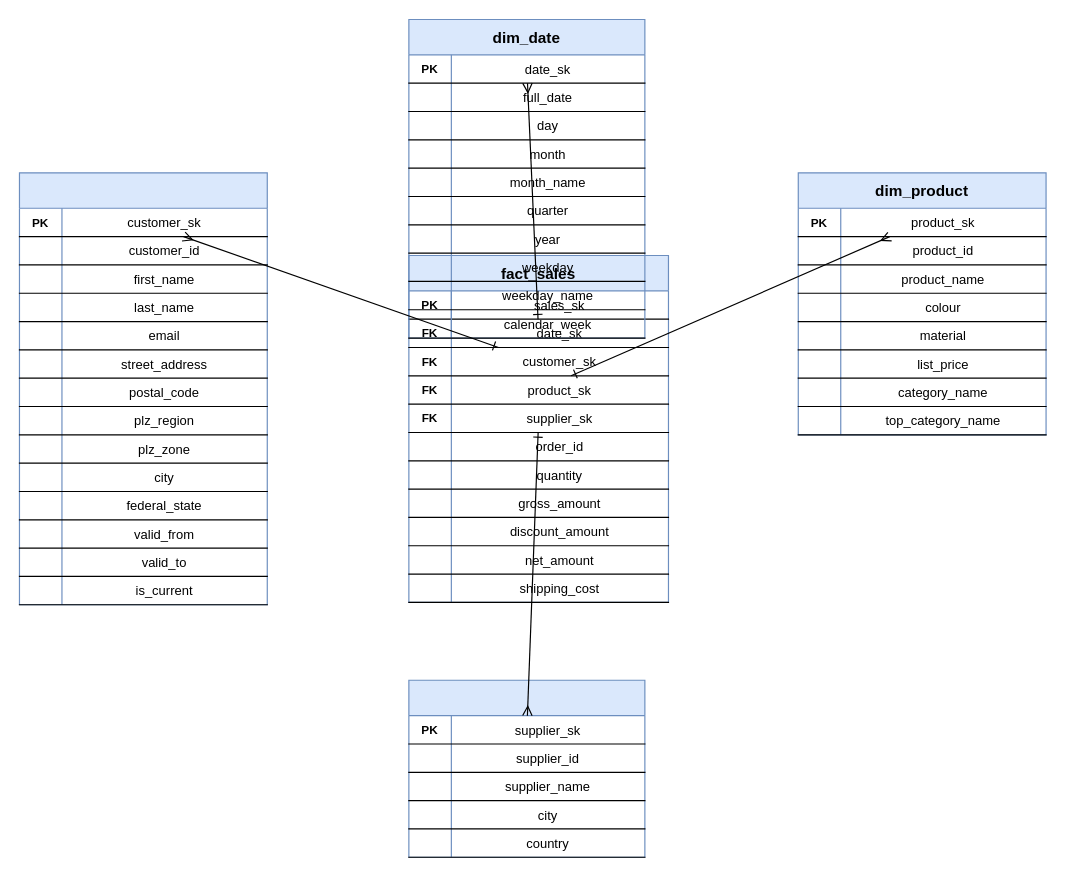
The diagram is 1066 pixels wide and 877 high, and some of its shapes have lost their labels. The shapes that lost their labels are listed below. From the top down, each one's box as (x1, y1, x2, y2) in pixels, then its label:
(18, 172, 267, 605): dim_customer
(408, 679, 645, 857): dim_supplier
